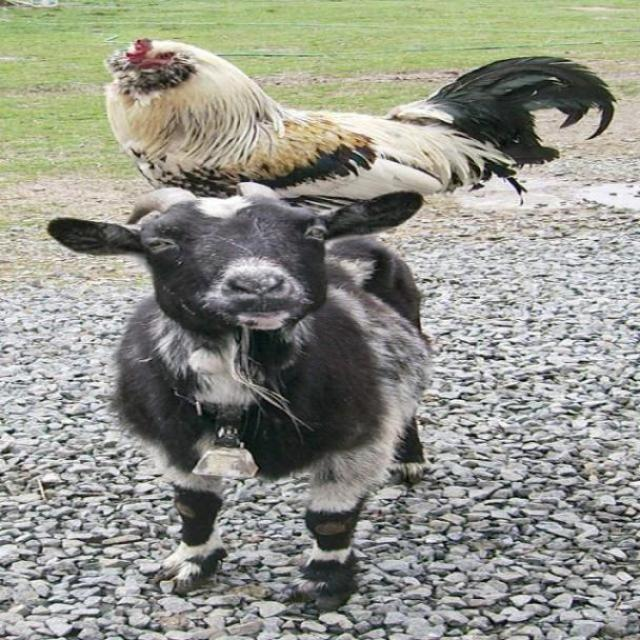Chicken: (76, 32, 635, 219)
